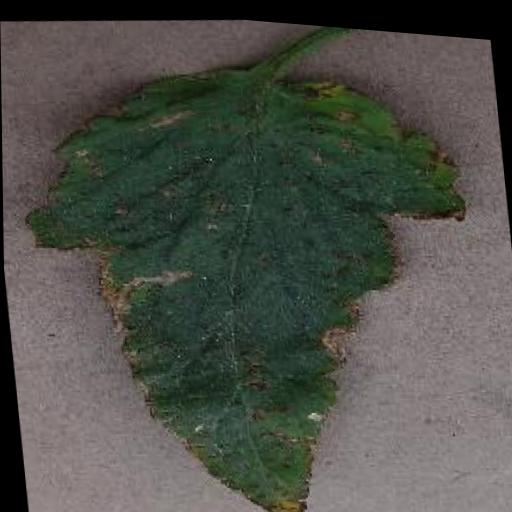Bacterial Spot: (3, 0, 507, 512)
